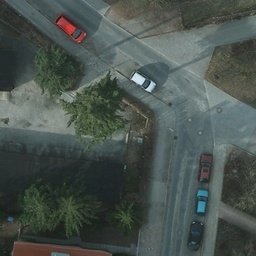car: (54, 13, 85, 43), (129, 71, 156, 94), (198, 153, 212, 181), (188, 222, 202, 249), (195, 189, 206, 217)
